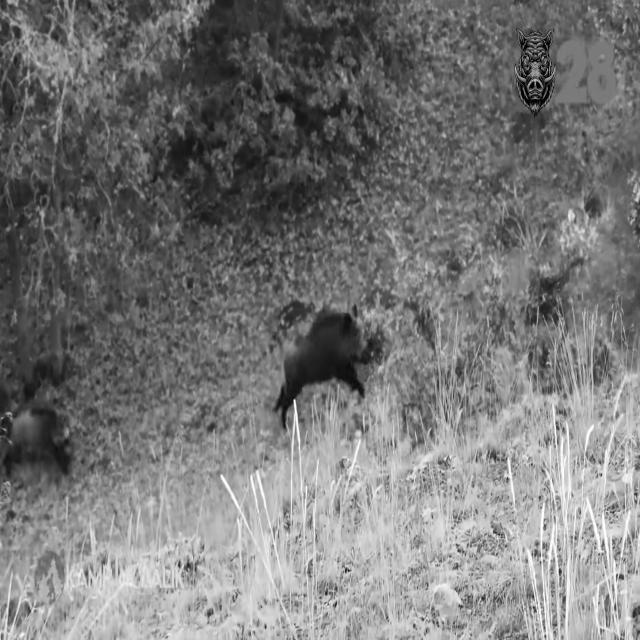boar: (274, 312, 370, 426), (0, 380, 69, 472)
